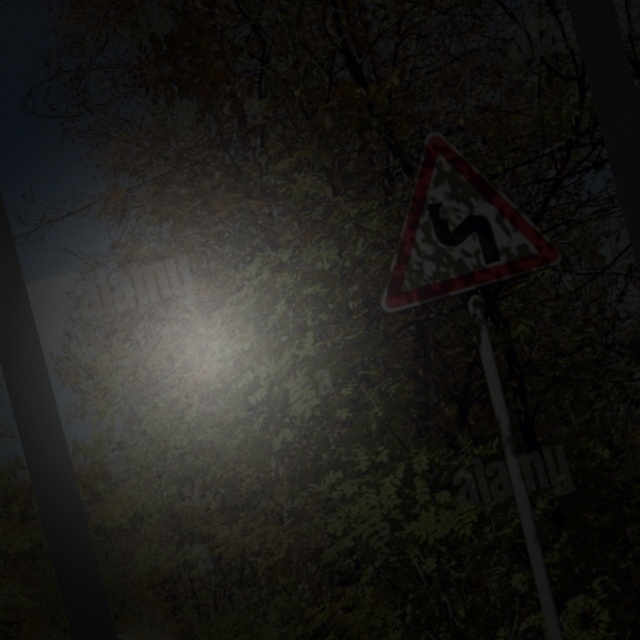Left_Reverse_Bend: (362, 125, 552, 305)
